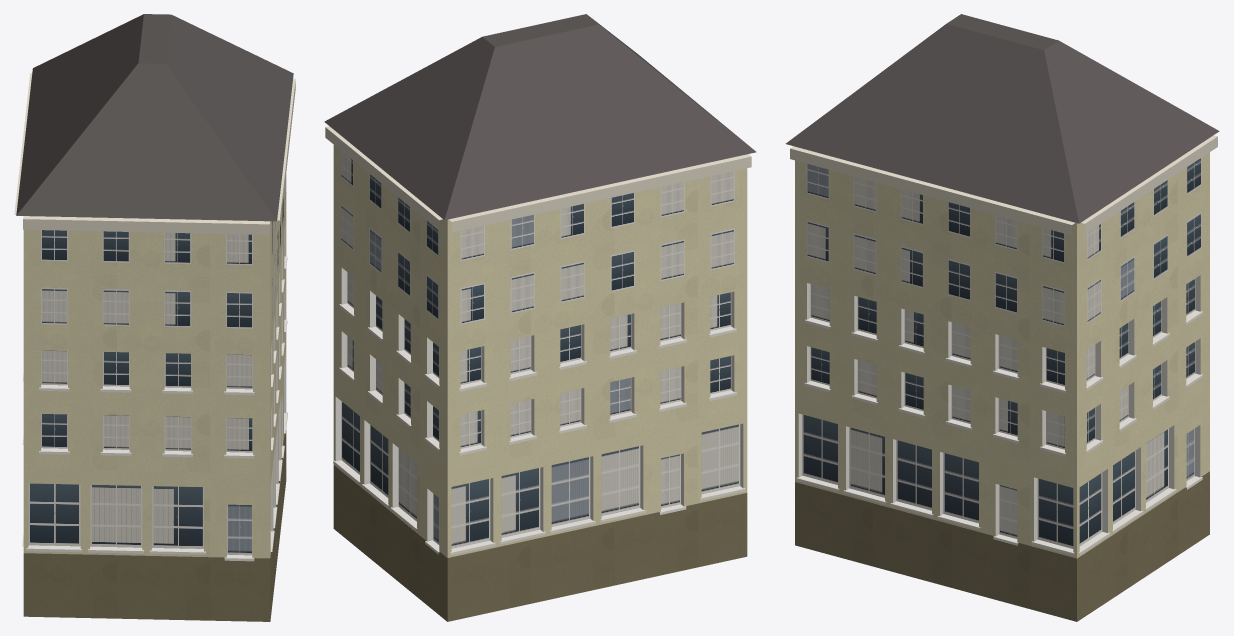
Rendered from z3c_hb_pale.glb.
The picture shows the model from 3 angles, left to right: view 1: azimuth 30°, elevation 25°; view 2: azimuth 150°, elevation 25°; view 3: azimuth 270°, elevation 25°; orthographic projection.
Visible parts, largest first — view 1: z3c_hb_pale; view 2: z3c_hb_pale; view 3: z3c_hb_pale.
Part boxes in pixels (x1=…): z3c_hb_pale: x1=14, y1=14, x2=295, y2=621; z3c_hb_pale: x1=324, y1=14, x2=756, y2=621; z3c_hb_pale: x1=785, y1=14, x2=1219, y2=621.
Bounding box in the file's own units: 17.5 × 24.07 × 18.67.
3 materials, 3 textured.
